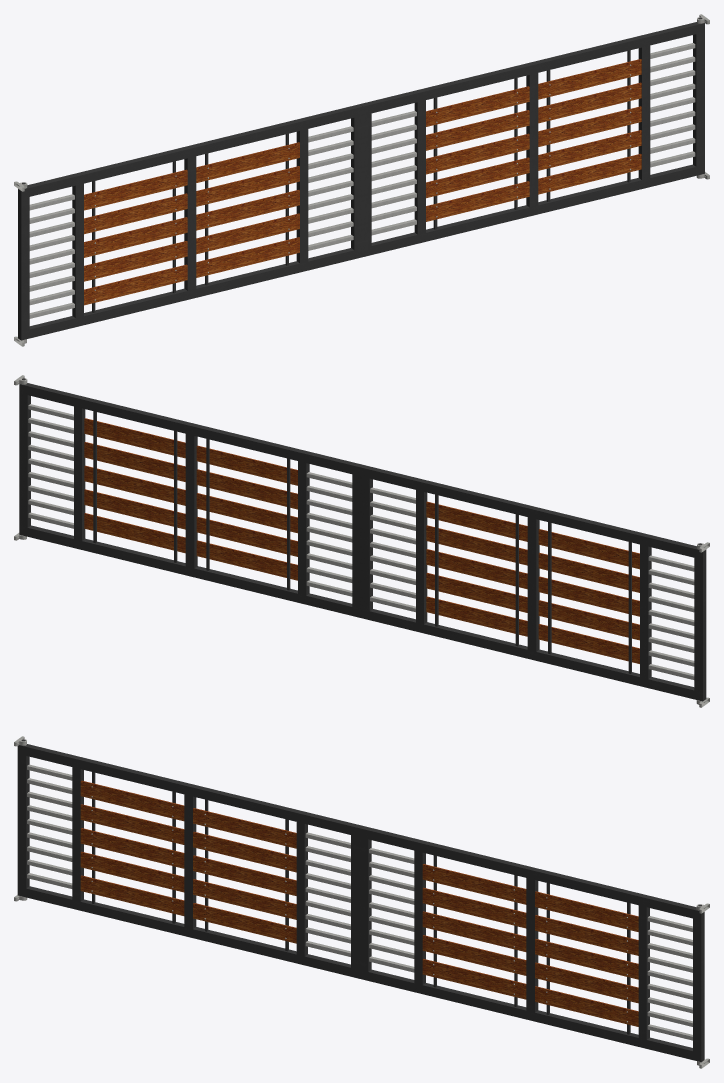
Rendered from bantaygabi-subdivision-gate.glb.
3 views of the same model, one above another, from view 1: azimuth 30°, elevation 25°; view 2: azimuth 150°, elevation 25°; view 3: azimuth 330°, elevation 25° (orthographic).
Visible parts, largest first — view 1: Guard_Gate; view 2: Guard_Gate; view 3: Guard_Gate.
Boxes of the visible parts, bbox=[...] form: Guard_Gate: bbox=[14, 14, 709, 346]; Guard_Gate: bbox=[14, 375, 709, 707]; Guard_Gate: bbox=[14, 736, 709, 1068].
Size of the model in its own units: 9.56 by 2.12 by 0.2021.
Materials: 2 (2 with a texture image).
